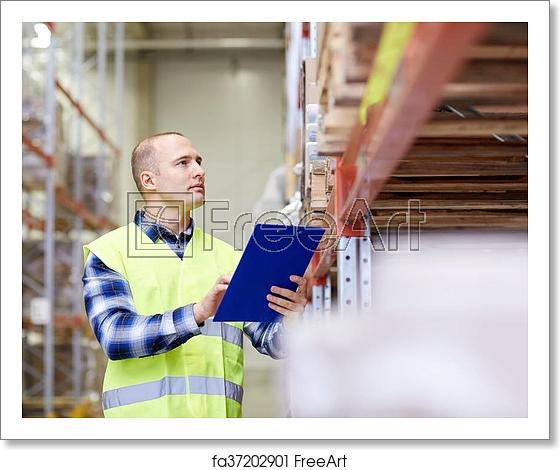person with partial safety: (76, 129, 289, 413)
safety vest: (90, 221, 246, 417)
